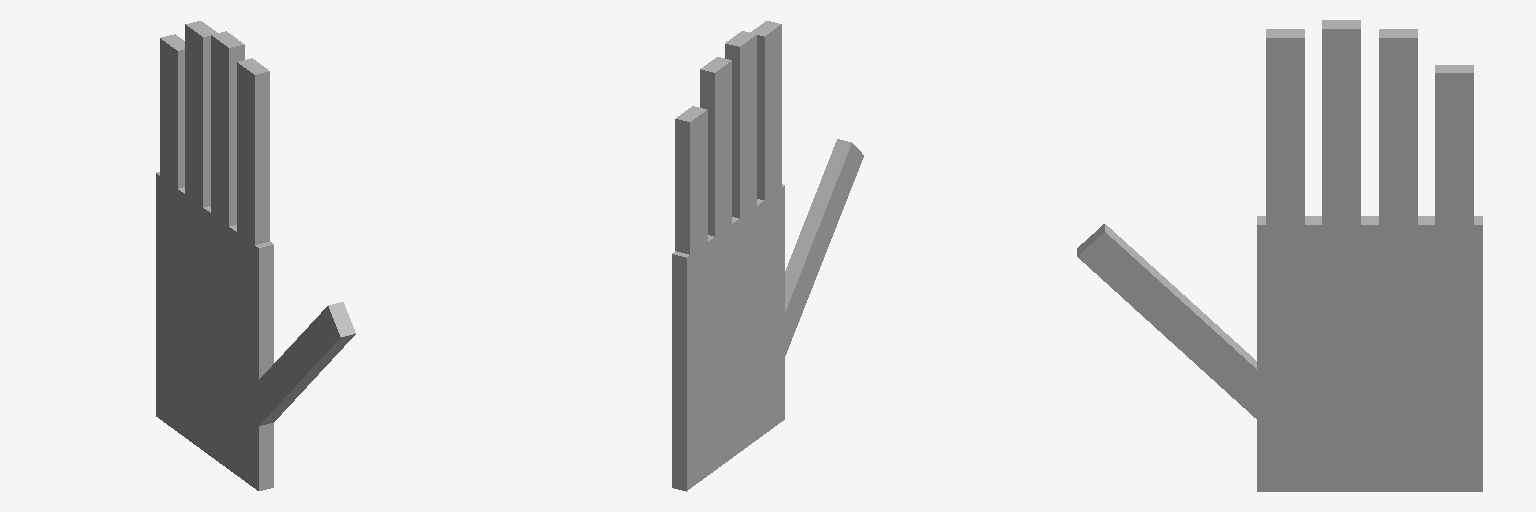
--- Facts derived from the render (not from the file) ---
The picture shows the robot from 3 angles, left to right: view 1: azimuth 30°, elevation 25°; view 2: azimuth 150°, elevation 25°; view 3: azimuth 270°, elevation 25°; orthographic projection.
Model leftHand with 23 links and 22 joints (21 revolute, 1 floating), rooted at world, posed every joint at zero.
Visible links, largest first — view 1: leftPalm, Body_LF11, Body_LT3, Body_LF13, Body_LF12, Body_LF22, Body_LF31, Body_LF21, Body_LF23, Body_LT1, Body_LF33, Body_LT2 (+4 smaller); view 2: leftPalm, Body_LT3, Body_LT2, Body_LF43, Body_LT1, Body_LF33, Body_LF11, Body_LF21, Body_LF22, Body_LF41, Body_LF23, Body_LF31 (+4 smaller); view 3: leftPalm, Body_LT3, Body_LT2, Body_LT1, Body_LF11, Body_LF21, Body_LF31, Body_LF22, Body_LF12, Body_LF13, Body_LF23, Body_LF32 (+4 smaller).
Link boxes in pixels (x1,y1,x2,y2): leftPalm: [156, 172, 273, 490]; Body_LF11: [237, 168, 269, 244]; Body_LT3: [303, 302, 355, 364]; Body_LF13: [237, 58, 269, 123]; Body_LF12: [237, 111, 269, 179]; Body_LF22: [211, 84, 236, 161]; Body_LF31: [185, 130, 210, 207]; Body_LF21: [211, 149, 236, 225]; Body_LF23: [211, 31, 244, 96]; Body_LT1: [244, 360, 304, 425]; Body_LF33: [185, 21, 216, 85]; Body_LT2: [278, 333, 330, 391]; leftPalm: [672, 184, 784, 491]; Body_LT3: [813, 139, 863, 216]; Body_LT2: [789, 201, 839, 278]; Body_LF43: [675, 106, 707, 168]; Body_LT1: [772, 263, 815, 371]; Body_LF33: [700, 57, 731, 119]; Body_LF11: [757, 126, 781, 199]; Body_LF21: [732, 144, 756, 218]; Body_LF22: [732, 82, 756, 155]; Body_LF41: [675, 195, 707, 254]; Body_LF23: [725, 31, 756, 93]; Body_LF31: [708, 162, 731, 236]; leftPalm: [1257, 216, 1482, 491]; Body_LT3: [1077, 224, 1159, 306]; Body_LT2: [1133, 274, 1215, 356]; Body_LT1: [1188, 324, 1297, 418]; Body_LF11: [1266, 153, 1304, 224]; Body_LF21: [1322, 153, 1360, 224]; Body_LF31: [1379, 153, 1417, 224]; Body_LF22: [1322, 82, 1360, 152]; Body_LF12: [1266, 91, 1304, 152]; Body_LF13: [1266, 29, 1304, 90]; Body_LF23: [1322, 20, 1360, 81]; Body_LF32: [1379, 91, 1417, 152].
Bounding box of the posed robot: 0.0064 × 0.1312 × 0.1651 m (x, y, z).
16 mesh visuals loaded from 6 distinct referenced files (6 Collada DAE).

The robot description file, URDF, robot "leftHand":
<robot name="leftHand">

    <link name="world"/>

    <!-- Left Palm -->
    <link name="leftPalm">
        <inertial>
            <origin rpy="0 0 0" xyz="0.00526734472242982 -0.00165481505247564 -0.0476967183846567" />
            <mass value="0.474006924726537" />
            <inertia ixx="0.000397832341494148" ixy="2.62847439473878E-06" ixz="-1.84132721696329E-05" iyy="0.000310585574870465" iyz="-5.74611340451118E-06" izz="0.000251799615334244" />
        </inertial>
        <visual>
            <origin rpy="0 0 0" xyz="0 0 0" />
            <geometry>
                <mesh filename="../meshes/palm.dae" />
            </geometry>
            <material name="">
                <color rgba="0.752941176470588 0.752941176470588 0.752941176470588 1" />
            </material>
        </visual>
        <collision>
            <origin rpy="0 0 0" xyz="0 0 0" />
            <geometry>
                <mesh filename="../meshes/palm.dae" />
            </geometry>
        </collision>
    </link>

    <!-- Left Index -->
    <link name="Body_LF11_dummy">
        <inertial>
            <origin rpy="0 0 0" xyz="4.08082421144568E-06 -0.0103654579068141 -0.0223572146583746" />
            <mass value="0.0209635645691505" />
            <inertia ixx="5.79877083007342E-06" ixy="-3.61896654972963E-09" ixz="2.45166522675331E-07" iyy="6.02432212425641E-06" iyz="1.21167394757334E-09" izz="1.78245355770108E-06" />
        </inertial>
    </link>

    <!-- Left Index -->
    <link name="Body_LF11">
        <inertial>
            <origin rpy="0 0 0" xyz="4.08082421144568E-06 -0.0103654579068141 -0.0223572146583746" />
            <mass value="0.0209635645691505" />
            <inertia ixx="5.79877083007342E-06" ixy="-3.61896654972963E-09" ixz="2.45166522675331E-07" iyy="6.02432212425641E-06" iyz="1.21167394757334E-09" izz="1.78245355770108E-06" />
        </inertial>
        <visual>
            <origin rpy="0 0 0" xyz="0 0 0" />
            <geometry>
                <mesh filename="../meshes/index1.dae" />
            </geometry>
            <material name="">
                <color rgba="0.752941176470588 0.752941176470588 0.752941176470588 1" />
            </material>
        </visual>
        <collision>
            <origin rpy="0 0 0" xyz="0 0 0" />
            <geometry>
                <mesh filename="../meshes/index1.dae" />
            </geometry>
        </collision>
    </link>
 
    <!-- Left Index, link 2 -->
    <link name="Body_LF12">
        <inertial>
            <origin rpy="0 0 0" xyz="0.000130946971760824 0.000226771833385403 -0.0135375370531412" />
            <mass value="0.0121177256078384" />
            <inertia ixx="2.50372945957958E-06" ixy="-2.32805891508231E-09" ixz="5.14105106916585E-08" iyy="2.26813369660349E-06" iyz="-4.92964124837522E-09" izz="1.22101156825522E-06" />
        </inertial>
        <visual>
            <origin rpy="0 0 0" xyz="0 0 0" />
            <geometry>
                <mesh filename="../meshes/index2.dae" />
            </geometry>
            <material name="">
                <color rgba="0.752941176470588 0.752941176470588 0.752941176470588 1" />
            </material>
        </visual>
        <collision>
            <origin rpy="0 0 0" xyz="0 0 0" />
            <geometry>
                <mesh filename="../meshes/index2.dae" />
            </geometry>
        </collision>
    </link>

    <!-- Left Index, link 3 -->
    <link name="Body_LF13">
        <inertial>
            <origin rpy="0 0 0" xyz="0.000169386130301579 0.000356898419659246 -0.0163165219752076" />
            <mass value="0.0163435127658012" />
            <inertia ixx="2.35338373719888E-06" ixy="-4.4210418009567E-09" ixz="1.38024261681812E-07" iyy="2.40973096927305E-06" iyz="-2.82215020077362E-08" izz="9.69758896639509E-07" />
        </inertial>
        <visual>
            <origin rpy="0 0 0" xyz="0 0 0" />
            <geometry>
                <mesh filename="../meshes/index3.dae" />
            </geometry>
            <material name="">
                <color rgba="0.752941176470588 0.752941176470588 0.752941176470588 1" />
            </material>
        </visual>
        <collision>
            <origin rpy="0 0 0" xyz="0 0 0" />
            <geometry>
                <mesh filename="../meshes/index3.dae" />
            </geometry>
        </collision>
    </link>

    <!-- Left Middle dummy link 0 -->
    <link name="Body_LF21_dummy">
        <inertial>
            <origin rpy="0 0 0" xyz="4.08082421144568E-06 -0.0103654579068141 -0.0223572146583746" />
            <mass value="0.0209635645691505" />
            <inertia ixx="5.79877083007342E-06" ixy="-3.61896654972963E-09" ixz="2.45166522675331E-07" iyy="6.02432212425641E-06" iyz="1.21167394757334E-09" izz="1.78245355770108E-06" />
        </inertial>
    </link>

    <!-- Left Middle link 1 -->
    <link name="Body_LF21">
        <inertial>
            <origin rpy="0 0 0" xyz="4.08082421144568E-06 -0.0103654579068141 -0.0223572146583746" />
            <mass value="0.0209635645691505" />
            <inertia ixx="5.79877083007342E-06" ixy="-3.61896654972963E-09" ixz="2.45166522675331E-07" iyy="6.02432212425641E-06" iyz="1.21167394757334E-09" izz="1.78245355770108E-06" />
        </inertial>
        <visual>
            <origin rpy="0 0 0" xyz="0 0 0" />
            <geometry>
                <mesh filename="../meshes/index1.dae" />
            </geometry>
            <material name="">
                <color rgba="0.752941176470588 0.752941176470588 0.752941176470588 1" />
            </material>
        </visual>
        <collision>
            <origin rpy="0 0 0" xyz="0 0 0" />
            <geometry>
                <mesh filename="../meshes/index1.dae" />
            </geometry>
        </collision>
    </link>
 
    <!-- Left Middle, link 2 -->
    <link name="Body_LF22">
        <inertial>
            <origin rpy="0 0 0" xyz="0.000130946971760824 0.000226771833385403 -0.0135375370531412" />
            <mass value="0.0121177256078384" />
            <inertia ixx="2.50372945957958E-06" ixy="-2.32805891508231E-09" ixz="5.14105106916585E-08" iyy="2.26813369660349E-06" iyz="-4.92964124837522E-09" izz="1.22101156825522E-06" />
        </inertial>
        <visual>
            <origin rpy="0 0 0" xyz="0 0 0" />
            <geometry>
                <mesh filename="../meshes/index1.dae" />
            </geometry>
            <material name="">
                <color rgba="0.752941176470588 0.752941176470588 0.752941176470588 1" />
            </material>
        </visual>
        <collision>
            <origin rpy="0 0 0" xyz="0 0 0" />
            <geometry>
                <mesh filename="../meshes/index2.dae" />
            </geometry>
        </collision>
    </link>

    <!-- Left Middle, link 3 -->
    <link name="Body_LF23">
        <inertial>
            <origin rpy="0 0 0" xyz="0.000169386130301579 0.000356898419659246 -0.0163165219752076" />
            <mass value="0.0163435127658012" />
            <inertia ixx="2.35338373719888E-06" ixy="-4.4210418009567E-09" ixz="1.38024261681812E-07" iyy="2.40973096927305E-06" iyz="-2.82215020077362E-08" izz="9.69758896639509E-07" />
        </inertial>
        <visual>
            <origin rpy="0 0 0" xyz="0 0 0" />
            <geometry>
                <mesh filename="../meshes/index3.dae" />
            </geometry>
            <material name="">
                <color rgba="0.752941176470588 0.752941176470588 0.752941176470588 1" />
            </material>
        </visual>
        <collision>
            <origin rpy="0 0 0" xyz="0 0 0" />
            <geometry>
                <mesh filename="../meshes/index3.dae" />
            </geometry>
        </collision>
    </link>

    <!-- Left Ring, link dummy 0 -->
    <link name="Body_LF31_dummy">
        <inertial>
            <origin rpy="0 0 0" xyz="4.08082421144568E-06 -0.0103654579068141 -0.0223572146583746" />
            <mass value="0.0209635645691505" />
            <inertia ixx="5.79877083007342E-06" ixy="-3.61896654972963E-09" ixz="2.45166522675331E-07" iyy="6.02432212425641E-06" iyz="1.21167394757334E-09" izz="1.78245355770108E-06" />
        </inertial>
    </link>

    <!-- Left Ring, link 1 -->
    <link name="Body_LF31">
        <inertial>
            <origin rpy="0 0 0" xyz="4.08082421144568E-06 -0.0103654579068141 -0.0223572146583746" />
            <mass value="0.0209635645691505" />
            <inertia ixx="5.79877083007342E-06" ixy="-3.61896654972963E-09" ixz="2.45166522675331E-07" iyy="6.02432212425641E-06" iyz="1.21167394757334E-09" izz="1.78245355770108E-06" />
        </inertial>
        <visual>
            <origin rpy="0 0 0" xyz="0 0 0" />
            <geometry>
                <mesh filename="../meshes/index1.dae" />
            </geometry>
            <material name="">
                <color rgba="0.752941176470588 0.752941176470588 0.752941176470588 1" />
            </material>
        </visual>
        <collision>
            <origin rpy="0 0 0" xyz="0 0 0" />
            <geometry>
                <mesh filename="../meshes/index1.dae" />
            </geometry>
        </collision>
    </link>
 
    <!-- Left Ring, link 2 -->
    <link name="Body_LF32">
        <inertial>
            <origin rpy="0 0 0" xyz="0.000130946971760824 0.000226771833385403 -0.0135375370531412" />
            <mass value="0.0121177256078384" />
            <inertia ixx="2.50372945957958E-06" ixy="-2.32805891508231E-09" ixz="5.14105106916585E-08" iyy="2.26813369660349E-06" iyz="-4.92964124837522E-09" izz="1.22101156825522E-06" />
        </inertial>
        <visual>
            <origin rpy="0 0 0" xyz="0 0 0" />
            <geometry>
                <mesh filename="../meshes/index2.dae" />
            </geometry>
            <material name="">
                <color rgba="0.752941176470588 0.752941176470588 0.752941176470588 1" />
            </material>
        </visual>
        <collision>
            <origin rpy="0 0 0" xyz="0 0 0" />
            <geometry>
                <mesh filename="../meshes/index2.dae" />
            </geometry>
        </collision>
    </link>

    <!-- Left Ring, link 3 -->
    <link name="Body_LF33">
        <inertial>
            <origin rpy="0 0 0" xyz="0.000169386130301579 0.000356898419659246 -0.0163165219752076" />
            <mass value="0.0163435127658012" />
            <inertia ixx="2.35338373719888E-06" ixy="-4.4210418009567E-09" ixz="1.38024261681812E-07" iyy="2.40973096927305E-06" iyz="-2.82215020077362E-08" izz="9.69758896639509E-07" />
        </inertial>
        <visual>
            <origin rpy="0 0 0" xyz="0 0 0" />
            <geometry>
                <mesh filename="../meshes/index3.dae" />
            </geometry>
            <material name="">
                <color rgba="0.752941176470588 0.752941176470588 0.752941176470588 1" />
            </material>
        </visual>
        <collision>
            <origin rpy="0 0 0" xyz="0 0 0" />
            <geometry>
                <mesh filename="../meshes/index3.dae" />
            </geometry>
        </collision>
    </link>


    <!-- Left Pinky, link dummy 0 -->
    <link name="Body_LF41_dummy">
        <inertial>
            <origin rpy="0 0 0" xyz="4.08082421144568E-06 -0.0103654579068141 -0.0223572146583746" />
            <mass value="0.0209635645691505" />
            <inertia ixx="5.79877083007342E-06" ixy="-3.61896654972963E-09" ixz="2.45166522675331E-07" iyy="6.02432212425641E-06" iyz="1.21167394757334E-09" izz="1.78245355770108E-06" />
        </inertial>
    </link>

    <!-- Left Pinky, link 1 -->
    <link name="Body_LF41">
        <inertial>
            <origin rpy="0 0 0" xyz="4.08082421144568E-06 -0.0103654579068141 -0.0223572146583746" />
            <mass value="0.0209635645691505" />
            <inertia ixx="5.79877083007342E-06" ixy="-3.61896654972963E-09" ixz="2.45166522675331E-07" iyy="6.02432212425641E-06" iyz="1.21167394757334E-09" izz="1.78245355770108E-06" />
        </inertial>
        <visual>
            <origin rpy="0 0 0" xyz="0 0 0" />
            <geometry>
                <mesh filename="../meshes/index3.dae" />
            </geometry>
            <material name="">
                <color rgba="0.752941176470588 0.752941176470588 0.752941176470588 1" />
            </material>
        </visual>
        <collision>
            <origin rpy="0 0 0" xyz="0 0 0" />
            <geometry>
                <mesh filename="../meshes/index3.dae" />
            </geometry>
        </collision>
    </link>
 
    <!-- Left Pinky, link 2 -->
    <link name="Body_LF42">
        <inertial>
            <origin rpy="0 0 0" xyz="0.000130946971760824 0.000226771833385403 -0.0135375370531412" />
            <mass value="0.0121177256078384" />
            <inertia ixx="2.50372945957958E-06" ixy="-2.32805891508231E-09" ixz="5.14105106916585E-08" iyy="2.26813369660349E-06" iyz="-4.92964124837522E-09" izz="1.22101156825522E-06" />
        </inertial>
        <visual>
            <origin rpy="0 0 0" xyz="0 0 0" />
            <geometry>
                <mesh filename="../meshes/pinky2.dae" />
            </geometry>
            <material name="">
                <color rgba="0.752941176470588 0.752941176470588 0.752941176470588 1" />
            </material>
        </visual>
        <collision>
            <origin rpy="0 0 0" xyz="0 0 0" />
            <geometry>
                <mesh filename="../meshes/pinky2.dae" />
            </geometry>
        </collision>
    </link>

    <!-- Left Pinky, link 3 -->
    <link name="Body_LF43">
        <inertial>
            <origin rpy="0 0 0" xyz="0.000169386130301579 0.000356898419659246 -0.0163165219752076" />
            <mass value="0.0163435127658012" />
            <inertia ixx="2.35338373719888E-06" ixy="-4.4210418009567E-09" ixz="1.38024261681812E-07" iyy="2.40973096927305E-06" iyz="-2.82215020077362E-08" izz="9.69758896639509E-07" />
        </inertial>
        <visual>
            <origin rpy="0 0 0" xyz="0 0 0" />
            <geometry>
                <mesh filename="../meshes/index3.dae" />
            </geometry>
            <material name="">
                <color rgba="0.752941176470588 0.752941176470588 0.752941176470588 1" />
            </material>
        </visual>
        <collision>
            <origin rpy="0 0 0" xyz="0 0 0" />
            <geometry>
                <mesh filename="../meshes/index3.dae" />
            </geometry>
        </collision>
    </link>


    <!-- Left Thumb, link dummy 0 -->
    <link name="Body_LT1_dummy">
        <inertial>
            <origin rpy="0 0 0" xyz="4.08082421144568E-06 -0.0103654579068141 -0.0223572146583746" />
            <mass value="0.0209635645691505" />
            <inertia ixx="5.79877083007342E-06" ixy="-3.61896654972963E-09" ixz="2.45166522675331E-07" iyy="6.02432212425641E-06" iyz="1.21167394757334E-09" izz="1.78245355770108E-06" />
        </inertial>
    </link>

    <!-- Left Thumb, link 1 -->
    <link name="Body_LT1">
        <inertial>
            <origin rpy="0 0 0" xyz="4.08082421144568E-06 -0.0103654579068141 -0.0223572146583746" />
            <mass value="0.0209635645691505" />
            <inertia ixx="5.79877083007342E-06" ixy="-3.61896654972963E-09" ixz="2.45166522675331E-07" iyy="6.02432212425641E-06" iyz="1.21167394757334E-09" izz="1.78245355770108E-06" />
        </inertial>
        <visual>
            <origin rpy="0 0 0" xyz="0 0 0" />
            <geometry>
                <mesh filename="../meshes/thumb1.dae" />
            </geometry>
            <material name="">
                <color rgba="0.752941176470588 0.752941176470588 0.752941176470588 1" />
            </material>
        </visual>
        <collision>
            <origin rpy="0 0 0" xyz="0 0 0" />
            <geometry>
                <mesh filename="../meshes/thumb1.dae" />
            </geometry>
        </collision>
    </link>

    <!-- Left Thumb, link 2 dummy -->
    <link name="Body_LT2_dummy">
        <inertial>
            <origin rpy="0 0 0" xyz="0.000130946971760824 0.000226771833385403 -0.0135375370531412" />
            <mass value="0.0121177256078384" />
            <inertia ixx="2.50372945957958E-06" ixy="-2.32805891508231E-09" ixz="5.14105106916585E-08" iyy="2.26813369660349E-06" iyz="-4.92964124837522E-09" izz="1.22101156825522E-06" />
        </inertial>
    </link>
 
    <!-- Left Thumb, link 2 -->
    <link name="Body_LT2">
        <inertial>
            <origin rpy="0 0 0" xyz="0.000130946971760824 0.000226771833385403 -0.0135375370531412" />
            <mass value="0.0121177256078384" />
            <inertia ixx="2.50372945957958E-06" ixy="-2.32805891508231E-09" ixz="5.14105106916585E-08" iyy="2.26813369660349E-06" iyz="-4.92964124837522E-09" izz="1.22101156825522E-06" />
        </inertial>
        <visual>
            <origin rpy="0 0 0" xyz="0 0 0" />
            <geometry>
                <mesh filename="../meshes/index1.dae" />
            </geometry>
            <material name="">
                <color rgba="0.752941176470588 0.752941176470588 0.752941176470588 1" />
            </material>
        </visual>
        <collision>
            <origin rpy="0 0 0" xyz="0 0 0" />
            <geometry>
                <mesh filename="../meshes/index1.dae" />
            </geometry>
        </collision>
    </link>

    <!-- Left Thumb, link 3 -->
    <link name="Body_LT3">
        <inertial>
            <origin rpy="0 0 0" xyz="0.000169386130301579 0.000356898419659246 -0.0163165219752076" />
            <mass value="0.0163435127658012" />
            <inertia ixx="2.35338373719888E-06" ixy="-4.4210418009567E-09" ixz="1.38024261681812E-07" iyy="2.40973096927305E-06" iyz="-2.82215020077362E-08" izz="9.69758896639509E-07" />
        </inertial>
        <visual>
            <origin rpy="0 0 0" xyz="0 0 0" />
            <geometry>
                <mesh filename="../meshes/index1.dae" />
            </geometry>
            <material name="">
                <color rgba="0.752941176470588 0.752941176470588 0.752941176470588 1" />
            </material>
        </visual>
        <collision>
            <origin rpy="0 0 0" xyz="0 0 0" />
            <geometry>
                <mesh filename="../meshes/index1.dae" />
            </geometry>
        </collision>
    </link>

    <!-- Left Palm Joint -->
    <joint name="LWR_dummy" type="floating">
        <origin rpy="0 0 0" xyz="0 0 0" />
        <parent link="world" />
        <child link="leftPalm" />
    </joint>

    <!-- Index Roll 1 -->
    <joint name="LF11d" type="revolute">
        <origin rpy="0 0 0" xyz="0 -0.02738 0.09525" />
        <parent link="leftPalm" />
        <child link="Body_LF11_dummy" />
        <axis xyz="1 0 0" />
        <limit effort="10.0" lower="-0.8" upper="0.8" velocity="2.0" />
    </joint>

    <!-- Index Pitch 1 -->
    <joint name="LF11" type="revolute">
        <origin rpy="0 0 0" xyz="0 0 0" />
        <parent link="Body_LF11_dummy" />
        <child link="Body_LF11" />
        <axis xyz="0 1 0" />
        <limit effort="10.0" lower="-0.2" upper="1.5708" velocity="2.0" />
    </joint>

    <!-- Index Pitch 2 -->
    <joint name="LF12" type="revolute">
        <origin rpy="0 0 0" xyz="0 0 0.0254" />
        <parent link="Body_LF11" />
        <child link="Body_LF12" />
        <axis xyz="0 1 0" />
        <limit effort="10.0" lower="-0.2" upper="1.5708" velocity="2.0" />
    </joint>

    <!-- Index Pitch 3 -->
    <joint name="LF13" type="revolute">
        <origin rpy="0 0 0" xyz="0 0 0.022225" />
        <parent link="Body_LF12" />
        <child link="Body_LF13" />
        <axis xyz="0 1 0" />
        <limit effort="10.0" lower="-0.2" upper="1.5708" velocity="2.0" />
    </joint>


    <!-- Middle Roll 1 -->
    <joint name="LF21d" type="revolute">
        <origin rpy="0 0 0" xyz="0 -0.009128 0.09525" />
        <parent link="leftPalm" />
        <child link="Body_LF21_dummy" />
        <axis xyz="1 0 0" />
        <limit effort="10.0" lower="-0.8" upper="0.8" velocity="2.0" />
    </joint>

    <!-- Middle Pitch 1 -->
    <joint name="LF21" type="revolute">
        <origin rpy="0 0 0" xyz="0 0 0" />
        <parent link="Body_LF21_dummy" />
        <child link="Body_LF21" />
        <axis xyz="0 1 0" />
        <limit effort="10.0" lower="-0.2" upper="1.5708" velocity="2.0" />
    </joint>

    <!-- Middle Pitch 2 -->
    <joint name="LF22" type="revolute">
        <origin rpy="0 0 0" xyz="0 0 0.0254" />
        <parent link="Body_LF21" />
        <child link="Body_LF22" />
        <axis xyz="0 1 0" />
        <limit effort="10.0" lower="-0.2" upper="1.5708" velocity="2.0" />
    </joint>

    <!-- Middle Pitch 3 -->
    <joint name="LF23" type="revolute">
        <origin rpy="0 0 0" xyz="0 0 0.0254" />
        <parent link="Body_LF22" />
        <child link="Body_LF23" />
        <axis xyz="0 1 0" />
        <limit effort="10.0" lower="-0.2" upper="1.5708" velocity="2.0" />
    </joint>

    <!-- Ring Roll 1 -->
    <joint name="LF31d" type="revolute">
        <origin rpy="0 0 0" xyz="0 0.009128 0.09525" />
        <parent link="leftPalm" />
        <child link="Body_LF31_dummy" />
        <axis xyz="1 0 0" />
        <limit effort="10.0" lower="-0.8" upper="0.8" velocity="2.0" />
    </joint>

    <!-- Ring Pitch 1 -->
    <joint name="LF31" type="revolute">
        <origin rpy="0 0 0" xyz="0 0 0" />
        <parent link="Body_LF31_dummy" />
        <child link="Body_LF31" />
        <axis xyz="0 1 0" />
        <limit effort="10.0" lower="-0.2" upper="1.5708" velocity="2.0" />
    </joint>

    <!-- Ring Pitch 2 -->
    <joint name="LF32" type="revolute">
        <origin rpy="0 0 0" xyz="0 0 0.0254" />
        <parent link="Body_LF31" />
        <child link="Body_LF32" />
        <axis xyz="0 1 0" />
        <limit effort="10.0" lower="-0.2" upper="1.5708" velocity="2.0" />
    </joint>

    <!-- Ring Pitch 3 -->
    <joint name="LF33" type="revolute">
        <origin rpy="0 0 0" xyz="0 0 0.022225" />
        <parent link="Body_LF32" />
        <child link="Body_LF33" />
        <axis xyz="0 1 0" />
        <limit effort="10.0" lower="-0.2" upper="1.5708" velocity="2.0" />
    </joint>


    <!-- Pinky Roll 1 -->
    <joint name="LF41d" type="revolute">
        <origin rpy="0 0 0" xyz="0 0.02738 0.09525" />
        <parent link="leftPalm" />
        <child link="Body_LF41_dummy" />
        <axis xyz="1 0 0" />
        <limit effort="10.0" lower="-0.8" upper="0.8" velocity="2.0" />
    </joint>

    <!-- Pinky Pitch 1 -->
    <joint name="LF41" type="revolute">
        <origin rpy="0 0 0" xyz="0 0 0" />
        <parent link="Body_LF41_dummy" />
        <child link="Body_LF41" />
        <axis xyz="0 1 0" />
        <limit effort="10.0" lower="-0.2" upper="1.5708" velocity="2.0" />
    </joint>

    <!-- Pinky Pitch 2 -->
    <joint name="LF42" type="revolute">
        <origin rpy="0 0 0" xyz="0 0 0.01905" />
        <parent link="Body_LF41" />
        <child link="Body_LF42" />
        <axis xyz="0 1 0" />
        <limit effort="10.0" lower="-0.2" upper="1.5708" velocity="2.0" />
    </joint>

    <!-- Pinky Pitch 3 -->
    <joint name="LF43" type="revolute">
        <origin rpy="0 0 0" xyz="0 0 0.015875" />
        <parent link="Body_LF42" />
        <child link="Body_LF43" />
        <axis xyz="0 1 0" />
        <limit effort="10.0" lower="-0.2" upper="1.5708" velocity="2.0" />
    </joint>


    <!-- Thumb Roll 1 -->
    <joint name="LT1d" type="revolute">
        <origin rpy="0 0 0" xyz="0 -0.02738 0.0254" />
        <parent link="leftPalm" />
        <child link="Body_LT1_dummy" />
        <axis xyz="1 0 0" />
        <limit effort="10.0" lower="-1.57" upper="1.57" velocity="2.0" />
    </joint>

    <!-- Thumb Yaw 1 -->
    <joint name="LT1" type="revolute">
        <origin rpy="0 0 0" xyz="0 0 0" />
        <parent link="Body_LT1_dummy" />
        <child link="Body_LT1" />
        <axis xyz="0 0 1" />
        <limit effort="10.0" lower="-0.2" upper="2.618" velocity="2.0" />
    </joint>

    <!-- Thumb Roll 2 -->
    <joint name="LT2d" type="revolute">
        <origin rpy="0.7853925 0 0" xyz="0 -0.026940768 0.026940768" />
        <parent link="Body_LT1" />
        <child link="Body_LT2_dummy" />
        <axis xyz="1 0 0" />
        <limit effort="10.0" lower="-0.8" upper="0.8" velocity="2.0" />
    </joint>


    <!-- Thumb Pitch 2 -->
    <joint name="LT2" type="revolute">
        <origin rpy="0 0 0" xyz="0 0 0" />
        <parent link="Body_LT2_dummy" />
        <child link="Body_LT2" />
        <axis xyz="0 1 0" />
        <limit effort="10.0" lower="-0.2" upper="1.5708" velocity="2.0" />
    </joint>

    <!-- Thumb Pitch 3 -->
    <joint name="LT3" type="revolute">
        <origin rpy="0 0 0" xyz="0 0 0.0254" />
        <parent link="Body_LT2" />
        <child link="Body_LT3" />
        <axis xyz="0 1 0" />
        <limit effort="10.0" lower="-0.2" upper="1.5708" velocity="2.0" />
    </joint>



</robot>
